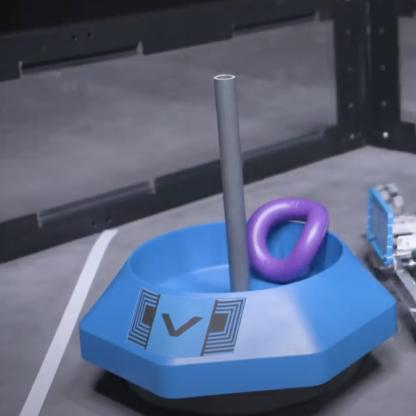ring: (246, 196, 329, 282)
